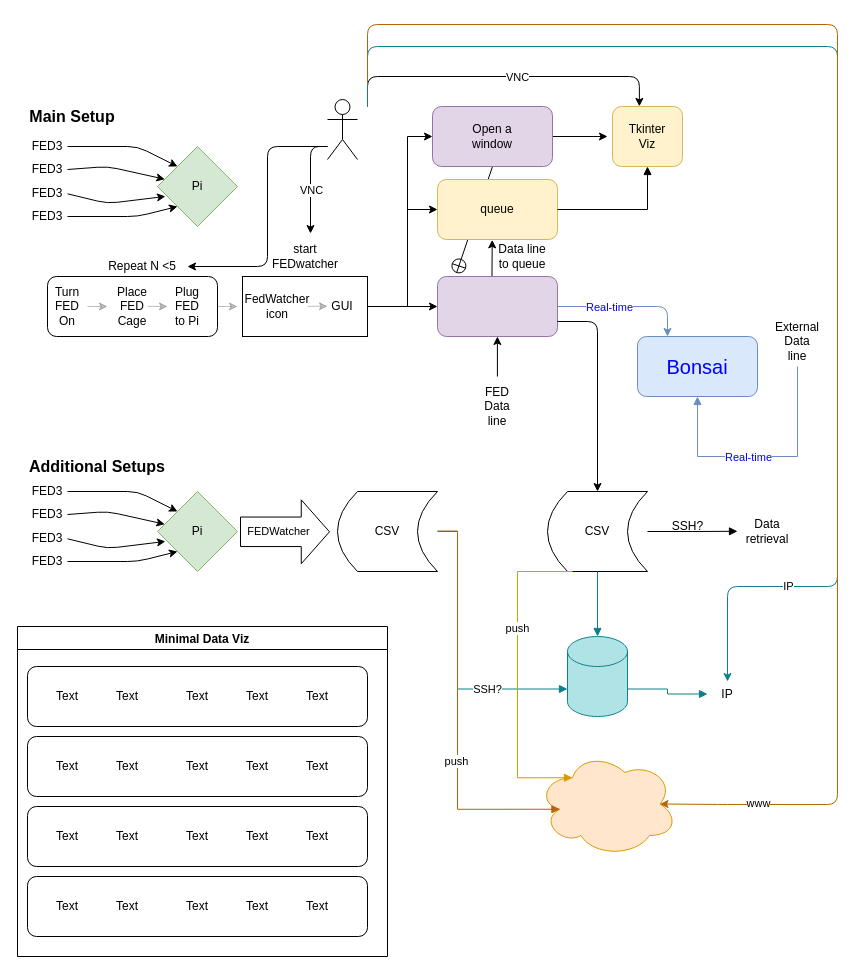
Image size: 863x974. Some labels were removed from this diagram. Here are the shapes that lost their labels. From the top down, the centre of each, then its label:
[342,129]: User
[497,306]: start fedwatcher thread
[597,676]: Local Shiny Server
[607,803]: Remote Shiny Server
